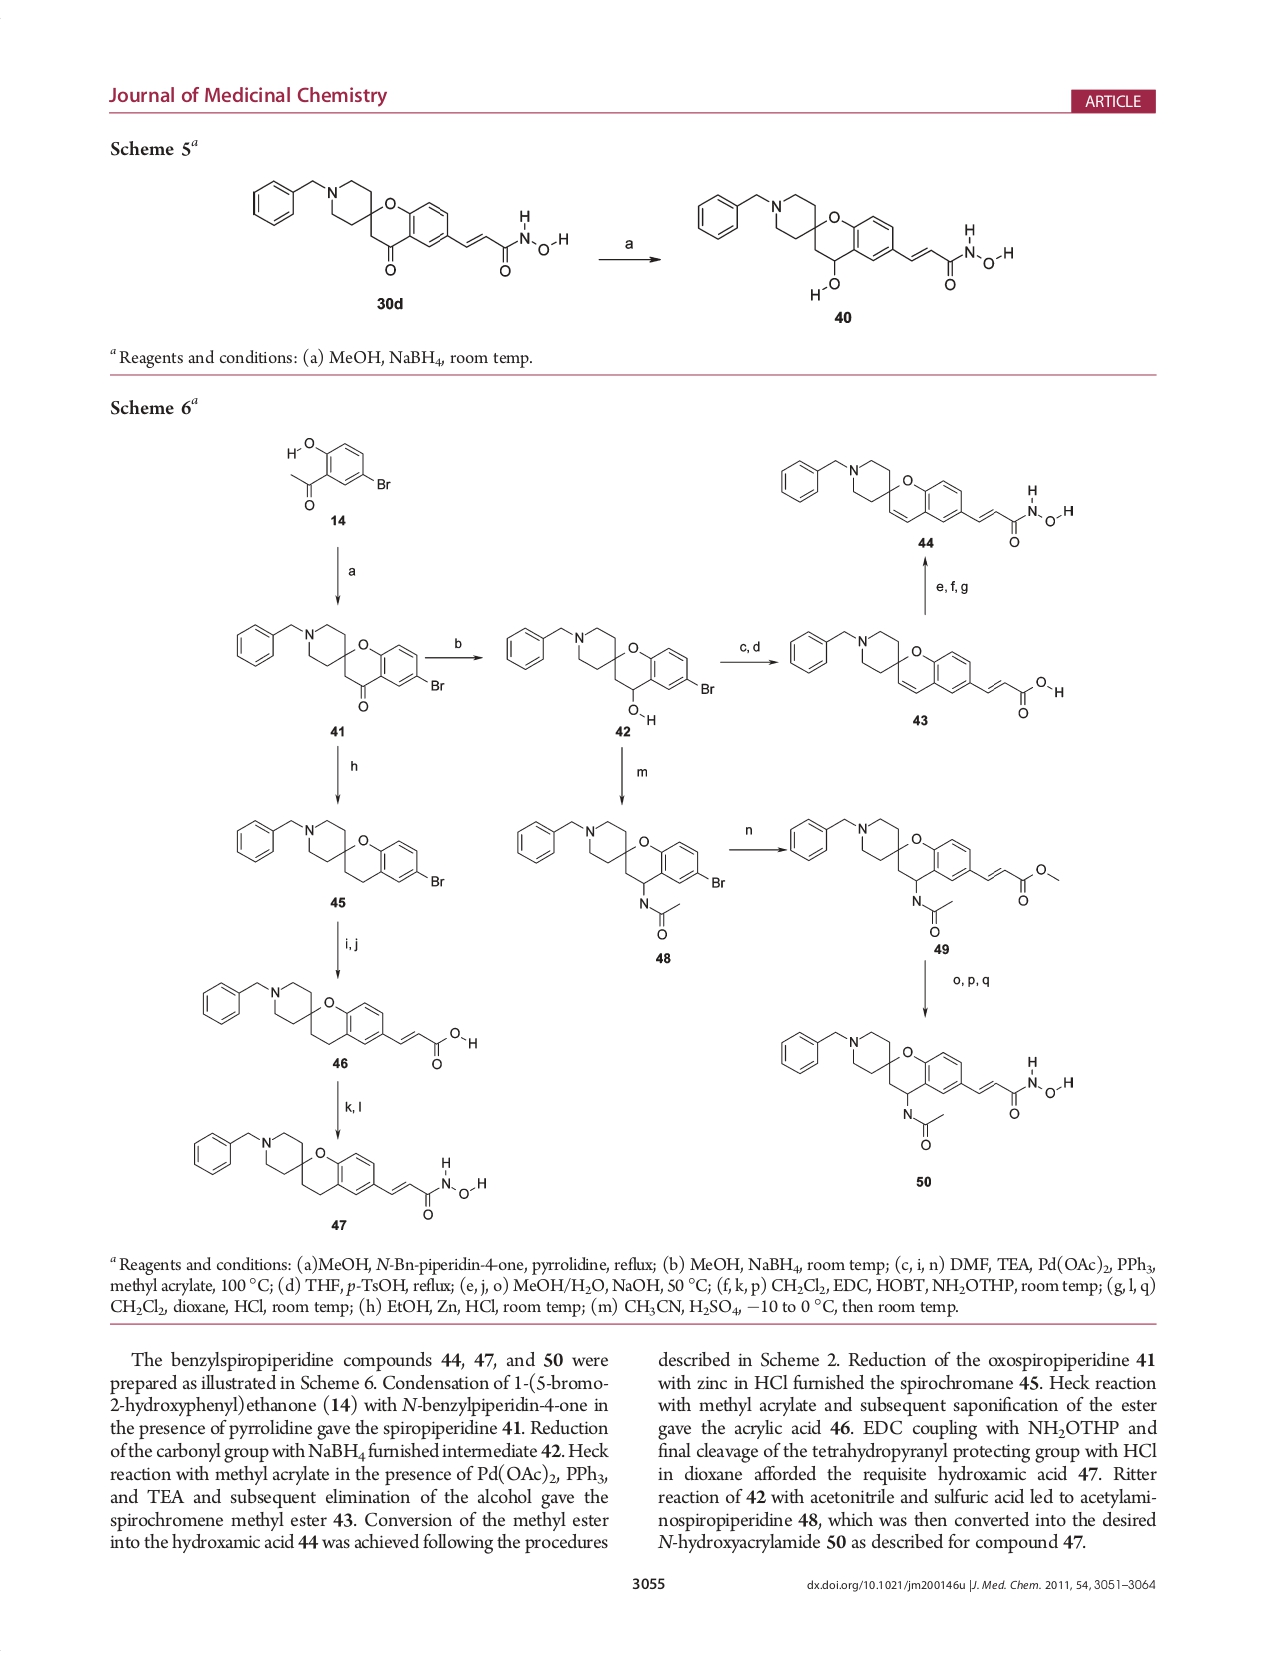exist_molecular: (690, 184, 1017, 305), (775, 1023, 1075, 1152), (245, 169, 570, 283), (787, 813, 1059, 942), (771, 449, 1077, 552), (188, 1126, 489, 1223), (783, 618, 1069, 719), (515, 814, 727, 943), (197, 977, 483, 1071), (497, 621, 718, 726), (230, 620, 445, 714), (229, 809, 449, 892), (281, 430, 390, 511)
